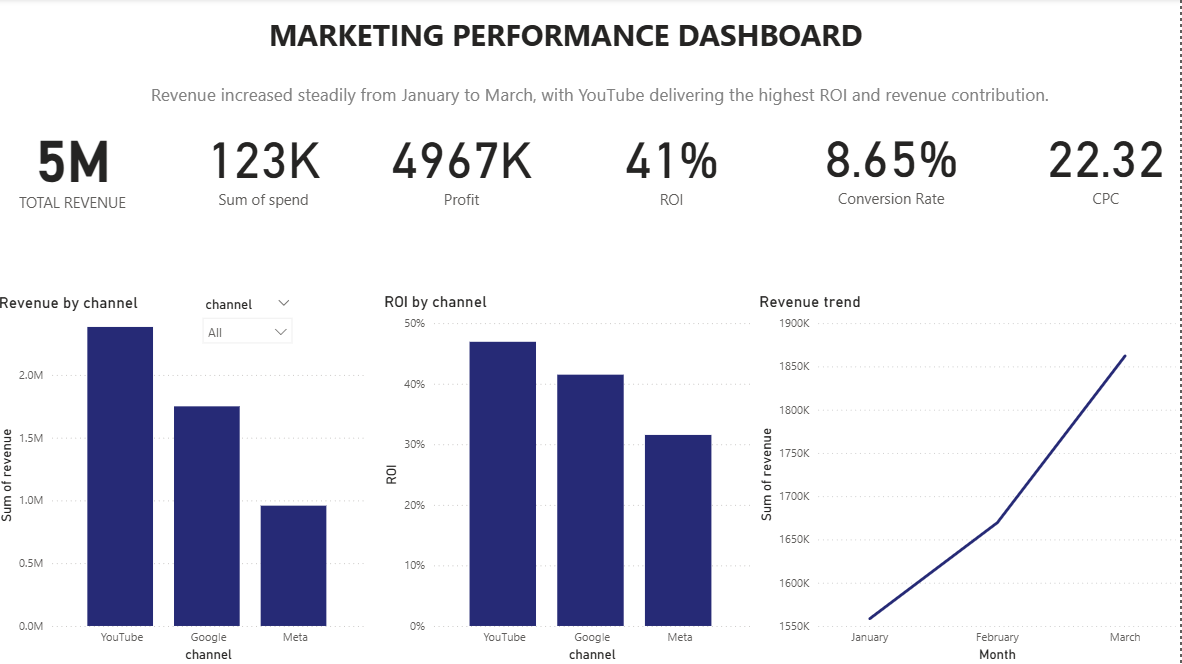

This screenshot's page, from the dashboard's own definition file:
{"tool":"powerbi","page":{"name":"Page 1","canvas":[1280,720],"ordinal":0},"visuals":[{"type":"card","fields":{"Values":["Sum(marketing_project_clean_data.spend)"]},"box":[202.4,105.2,176.5,147.3],"z":1000},{"type":"clusteredColumnChart","title":"Revenue by channel","fields":{"Category":["marketing_project_clean_data.channel"],"Y":["Sum(marketing_project_clean_data.revenue)"]},"box":[0,319,404.8,401.6],"z":3000},{"type":"lineChart","title":"Revenue trend","fields":{"Y":["Sum(marketing_project_clean_data.revenue)"],"Category":["marketing_project_clean_data.date.Variation.Date Hierarchy.Month"]},"box":[820.9,317.4,459.9,403.2],"z":5000},{"type":"card","fields":{"Values":["marketing_project_clean_data.ROI"]},"box":[641.2,105.2,179.7,147.3],"z":5001},{"type":"card","fields":{"Values":["marketing_project_clean_data.Profit"]},"box":[416.1,105.2,176.5,147.3],"z":5002},{"type":"card","fields":{"Values":["marketing_project_clean_data.CPC"]},"box":[1118.9,105.2,161.9,144.1],"z":5003},{"type":"card","fields":{"Values":["marketing_project_clean_data.Conversion Rate"]},"box":[885.7,105.2,165.2,144.1],"z":5004},{"type":"card","fields":{"Values":["marketing_project_clean_data.TOTAL REVENUE"]},"box":[0,105.2,168.4,145.7],"z":5005},{"type":"clusteredColumnChart","fields":{"Category":["marketing_project_clean_data.channel"],"Y":["marketing_project_clean_data.ROI"]},"box":[416.1,317.4,404.8,403.2],"z":5007},{"type":"textbox","box":[291.5,11.3,680.1,59.9],"z":5008},{"type":"textbox","box":[45.3,85.8,1217.7,38.9],"z":5009},{"type":"slicer","fields":{"Values":["marketing_project_clean_data.channel"]},"box":[215.4,317.4,116.6,74.5],"z":5010}]}

Visuals, with their boxes in screenshot pixels (x1, y1, x2, y2), scaled from the page's 1280x720 canvas onto the 1182x664 screenshot:
card - Sum(marketing_project_clean_data.spend): 187,97,350,233
"Revenue by channel" clusteredColumnChart: 0,294,374,663
"Revenue trend" lineChart: 758,293,1181,663
card - marketing_project_clean_data.ROI: 592,97,758,233
card - marketing_project_clean_data.Profit: 384,97,547,233
card - marketing_project_clean_data.CPC: 1033,97,1181,230
card - marketing_project_clean_data.Conversion Rate: 818,97,970,230
card - marketing_project_clean_data.TOTAL REVENUE: 0,97,156,231
clusteredColumnChart - marketing_project_clean_data.channel x marketing_project_clean_data.ROI: 384,293,758,663
textbox: 269,10,897,66
textbox: 42,79,1166,115
slicer - marketing_project_clean_data.channel: 199,293,307,361
